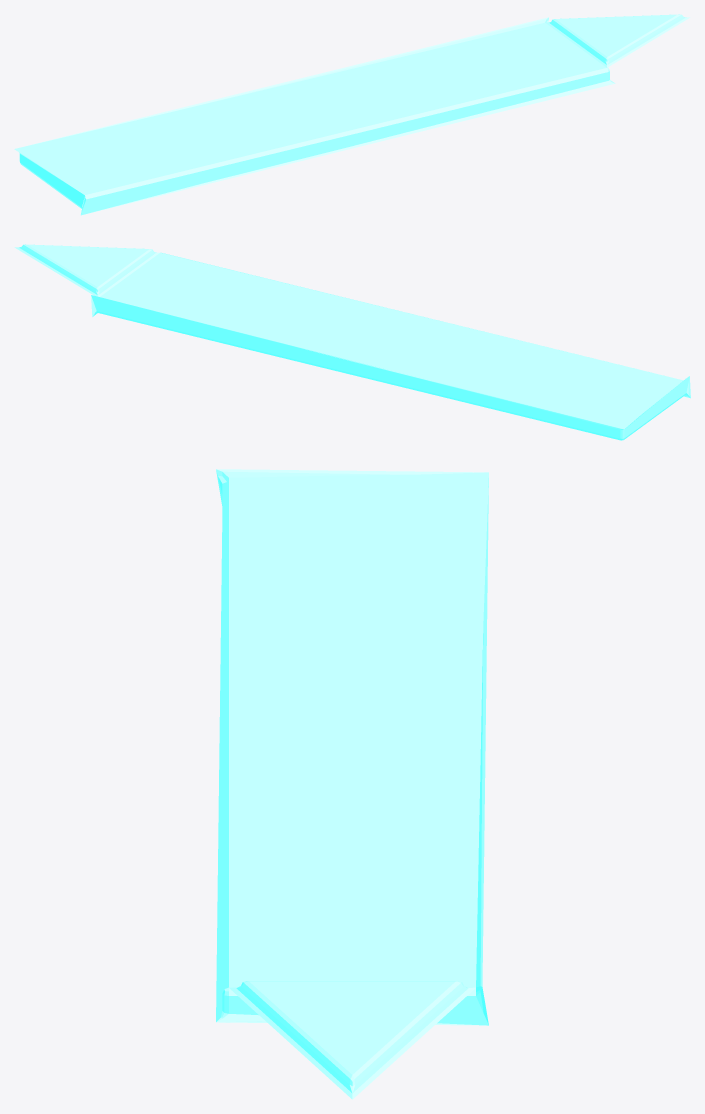
File: diode_active.glb
3 renders of one model, top to bottom at view 1: azimuth 30°, elevation 25°; view 2: azimuth 150°, elevation 25°; view 3: azimuth 270°, elevation 25°, orthographic. The views are drawn at different scales.
Visible parts, largest first — view 1: Diode; view 2: Diode; view 3: Diode.
Boxes of the visible parts, box(x1,y1,x2,y2) form: Diode: box(14, 14, 690, 215); Diode: box(14, 244, 690, 440); Diode: box(216, 469, 488, 1099).
Size of the model in its own units: 0.9135 by 0.032 by 0.168.
